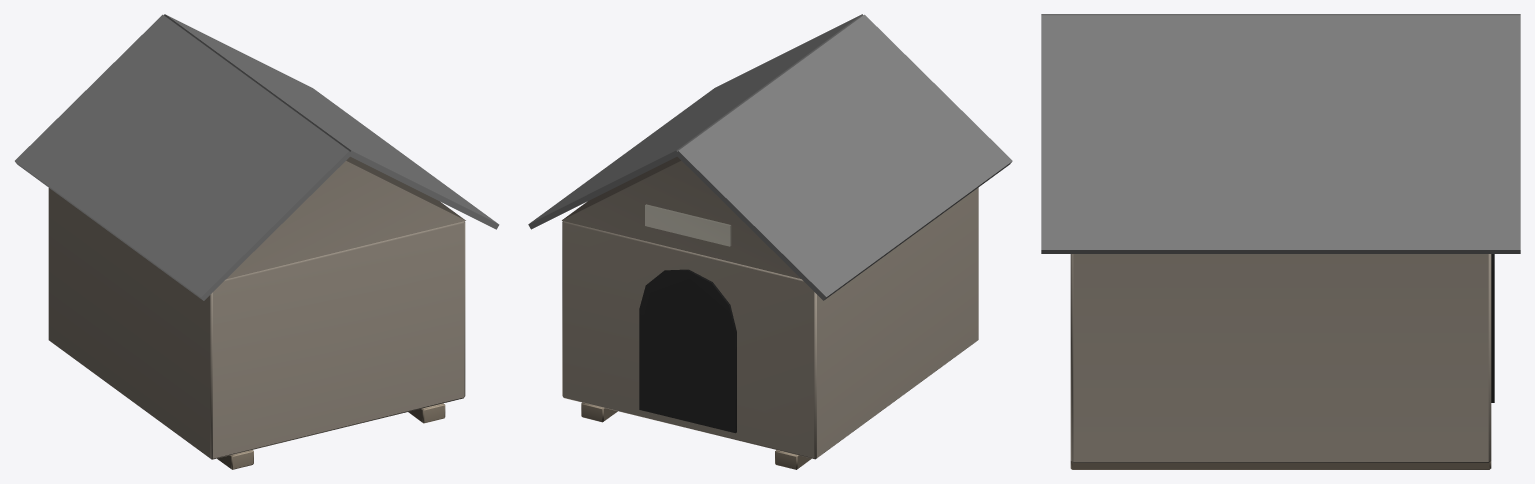
Rendered from dog_kennel.glb.
3 renders of one model, left to right at view 1: azimuth 30°, elevation 25°; view 2: azimuth 150°, elevation 25°; view 3: azimuth 270°, elevation 25°, orthographic. The views are drawn at different scales.
Visible parts, largest first — view 1: static; view 2: static; view 3: static.
Part boxes in pixels (box(x1,y1,x2,y2)): static: box(15, 14, 499, 469); static: box(528, 14, 1012, 469); static: box(1041, 14, 1520, 469).
Size of the model in its own units: 1.05 by 1.02 by 1.14.
